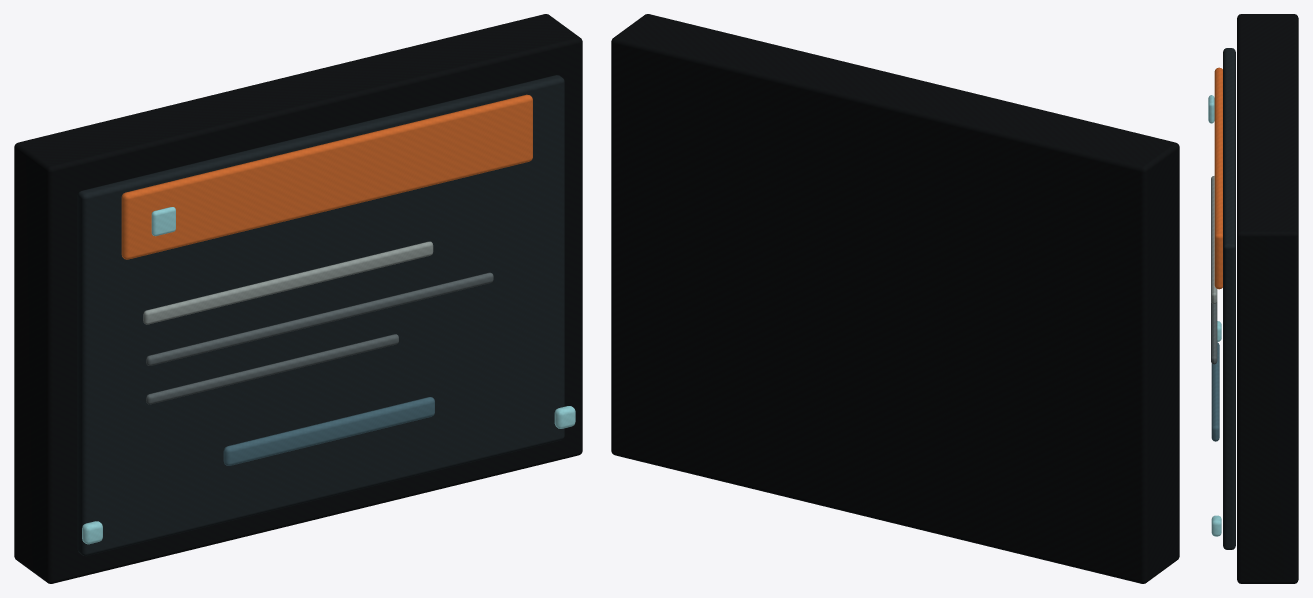
Rendered from WallSign.glb.
The picture shows the model from 3 angles, left to right: view 1: azimuth 30°, elevation 25°; view 2: azimuth 150°, elevation 25°; view 3: azimuth 270°, elevation 25°; orthographic projection. The views are drawn at different scales.
Parts seen in each view (by area): view 1: WallSign_Mesh; view 2: WallSign_Mesh; view 3: WallSign_Mesh.
Boxes of the visible parts, x1,y1,x2,y2 form: WallSign_Mesh: [14, 14, 582, 583]; WallSign_Mesh: [611, 14, 1179, 583]; WallSign_Mesh: [1208, 14, 1298, 583].
Size of the model in its own units: 1.02 by 0.76 by 0.176.
Materials: 7 (7 with a texture image).
